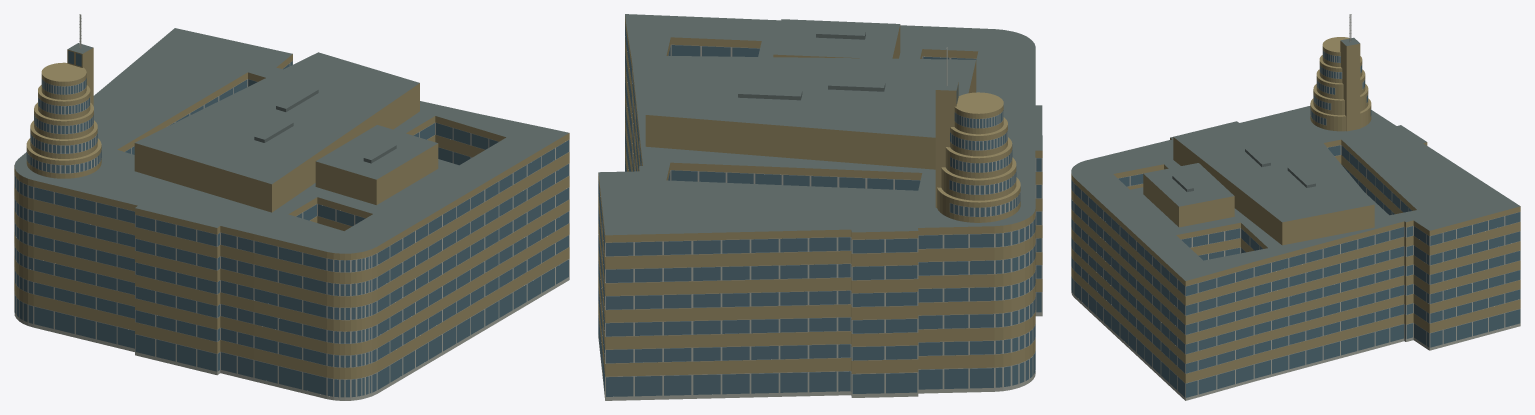
Rendered from flagey-building-near.glb.
3 renders of one model, left to right at view 1: azimuth 30°, elevation 25°; view 2: azimuth 150°, elevation 25°; view 3: azimuth 270°, elevation 25°, orthographic. The views are drawn at different scales.
Parts seen in each view (by area): view 1: flagey-building-0-brick, flagey-building-0-roof, flagey-building-0-glass, flagey-building-0-frame, flagey-building-0-stone; view 2: flagey-building-0-roof, flagey-building-0-brick, flagey-building-0-glass, flagey-building-0-frame, flagey-building-0-stone; view 3: flagey-building-0-brick, flagey-building-0-roof, flagey-building-0-glass, flagey-building-0-frame, flagey-building-0-stone.
Part boxes in pixels (left/top/right/bottom): flagey-building-0-brick: left=14, top=47, right=569, bottom=379; flagey-building-0-roof: left=14, top=28, right=568, bottom=253; flagey-building-0-glass: left=15, top=51, right=568, bottom=397; flagey-building-0-frame: left=14, top=14, right=569, bottom=397; flagey-building-0-stone: left=14, top=277, right=569, bottom=400; flagey-building-0-roof: left=598, top=14, right=1042, bottom=235; flagey-building-0-brick: left=598, top=16, right=1042, bottom=376; flagey-building-0-glass: left=598, top=23, right=1041, bottom=396; flagey-building-0-frame: left=598, top=44, right=1042, bottom=397; flagey-building-0-stone: left=598, top=312, right=1042, bottom=400; flagey-building-0-brick: left=1071, top=37, right=1520, bottom=383; flagey-building-0-roof: left=1071, top=37, right=1520, bottom=280; flagey-building-0-glass: left=1071, top=50, right=1520, bottom=397; flagey-building-0-frame: left=1072, top=14, right=1520, bottom=398; flagey-building-0-stone: left=1071, top=290, right=1520, bottom=400.
Bounding box in the file's own units: 84.06 × 50.51 × 88.41.
